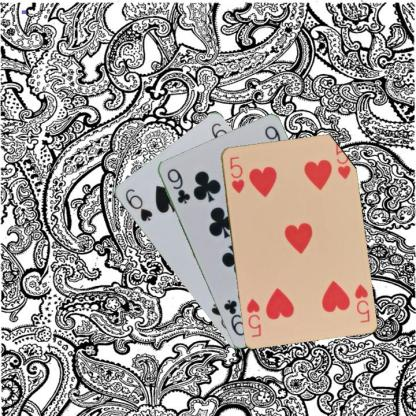5h: (351, 280, 371, 324), (226, 154, 245, 194)
6s: (122, 186, 154, 222)
9c: (164, 166, 191, 205)
